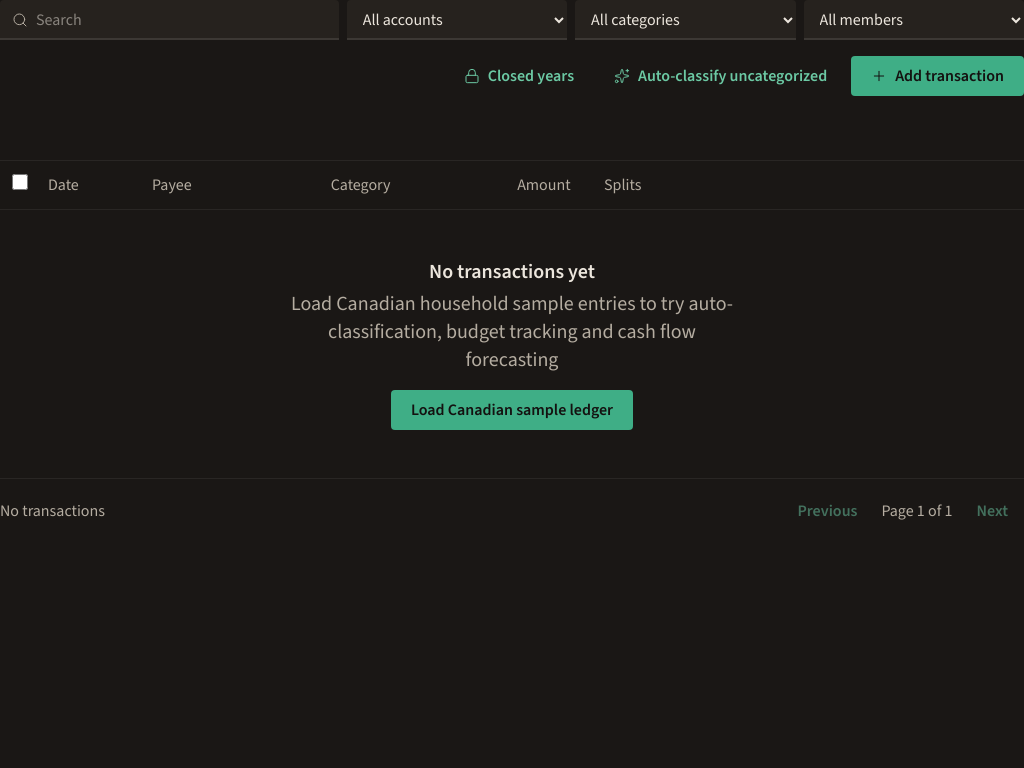
LedgerWorkspace Household Features › renders Household Member Attribution select in Transaction modal
The width and height of the screenshot is (1024, 768).
Click the button "Add transaction". click: {"x": 938, "y": 76}
box: [851,56,1023,96]
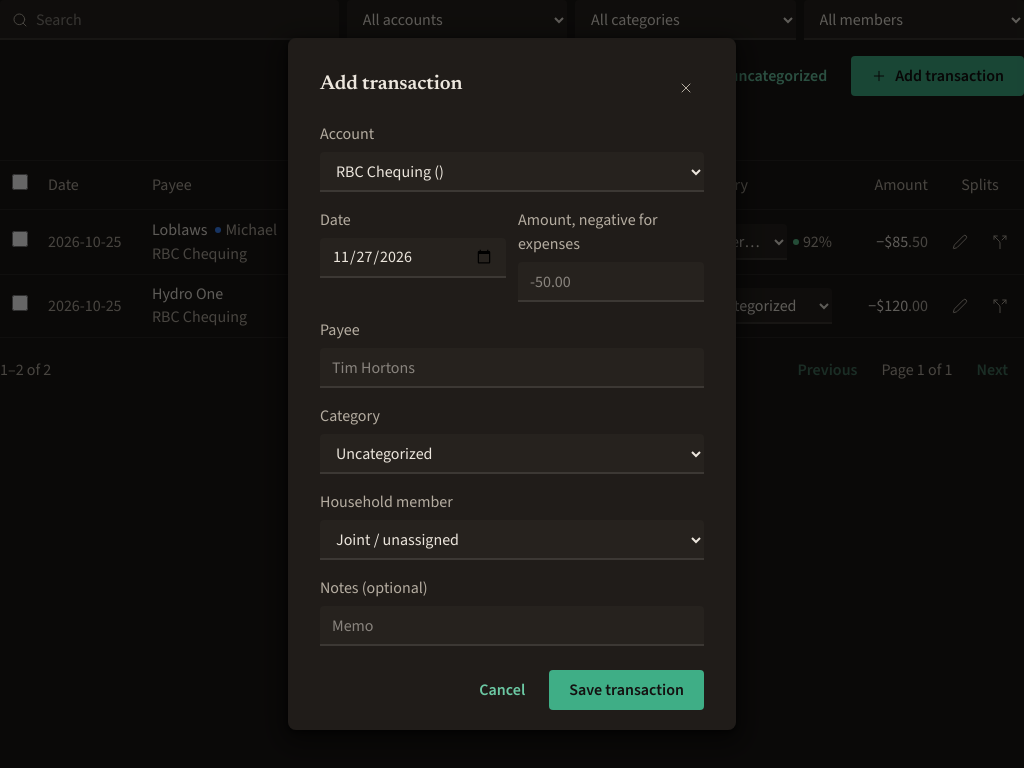
Result: the text "Household member" is shown at [320,491,453,512]
